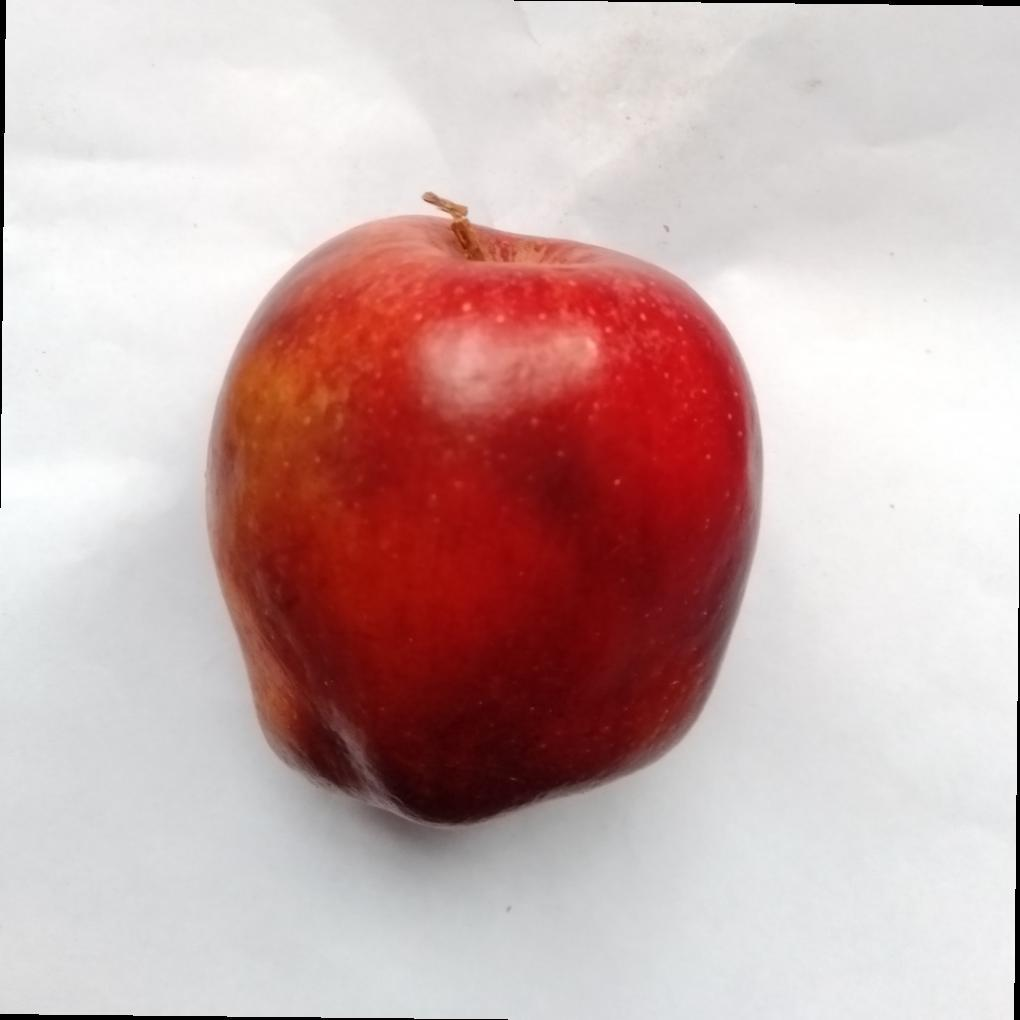FreshOrange: (203, 194, 765, 832)
